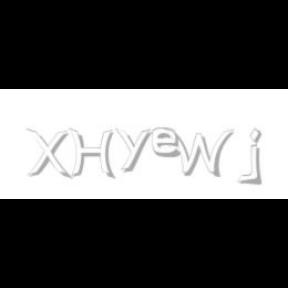H: (69, 128, 115, 180)
W: (162, 128, 234, 178)
X: (26, 128, 70, 180)
e: (152, 128, 184, 158)
j: (246, 128, 276, 186)
y: (115, 128, 155, 172)
